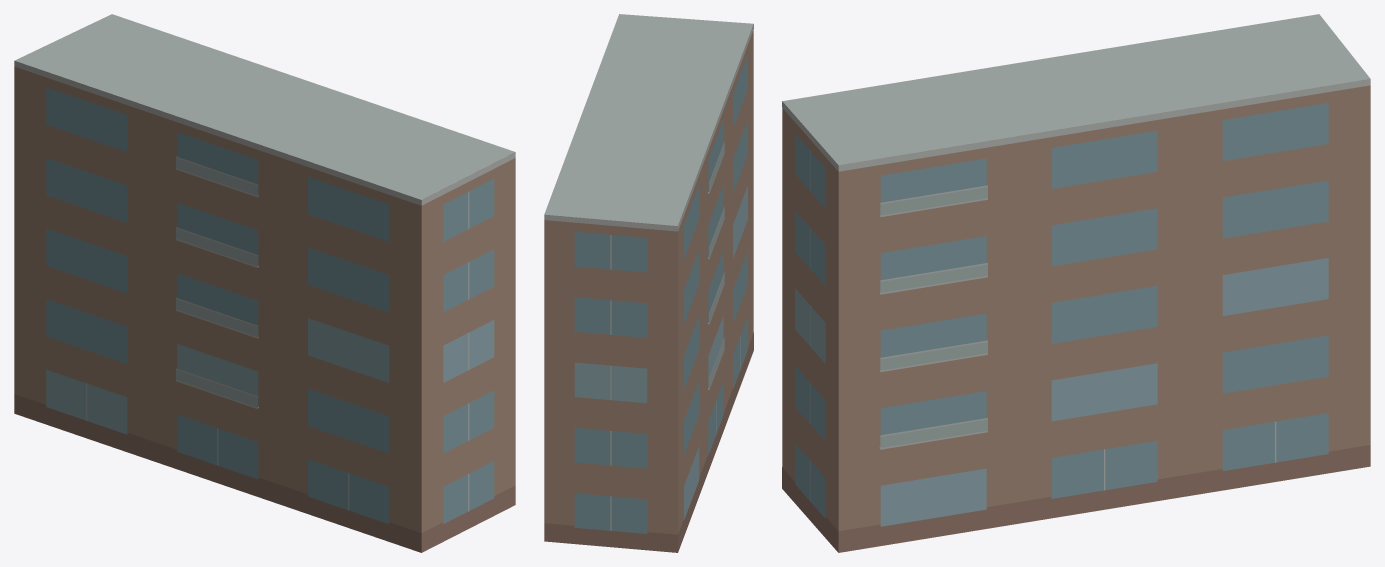
File: survey-upis-33010614.glb
3 renders of one model, left to right at view 1: azimuth 30°, elevation 25°; view 2: azimuth 150°, elevation 25°; view 3: azimuth 270°, elevation 25°, orthographic. The views are drawn at different scales.
Visible parts, largest first — view 1: survey-upis-33010614.tmp; view 2: survey-upis-33010614.tmp; view 3: survey-upis-33010614.tmp.
Boxes of the visible parts, left/top/right/bottom form: survey-upis-33010614.tmp: left=14, top=14, right=515, bottom=552; survey-upis-33010614.tmp: left=544, top=14, right=753, bottom=552; survey-upis-33010614.tmp: left=782, top=14, right=1370, bottom=552.
Bounding box in the file's own units: 12.36 × 14.75 × 20.31.
